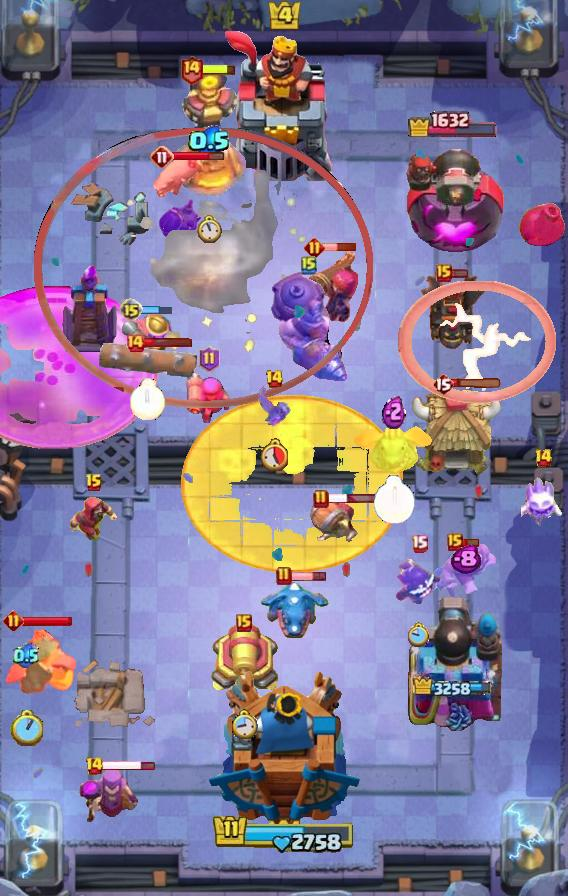archer-evolution: (420, 269, 486, 353)
baby-dragon: (516, 198, 568, 252)
barbarian: (256, 383, 292, 429)
barbarian-evolution: (398, 281, 556, 403)
bomb-tower: (120, 310, 176, 372)
bowler: (68, 494, 120, 544)
clock: (212, 813, 356, 855)
electro-dragon: (170, 71, 248, 199)
electro-spirit: (188, 126, 231, 158), (451, 545, 482, 575), (382, 393, 406, 429), (13, 643, 39, 669)
electro-wizard: (0, 625, 76, 699), (353, 422, 435, 476)
elixir: (373, 475, 415, 525), (130, 378, 166, 420), (10, 710, 43, 746), (260, 437, 288, 470), (230, 709, 257, 739), (197, 215, 222, 244), (408, 621, 430, 646)
emote: (100, 760, 155, 773), (21, 615, 73, 627), (172, 150, 225, 161), (451, 378, 503, 389), (326, 493, 378, 504), (143, 336, 193, 347), (201, 63, 237, 77), (289, 570, 326, 581), (141, 304, 173, 315), (323, 242, 358, 252), (460, 537, 480, 548), (450, 269, 469, 280)
fireball: (428, 539, 502, 601)
giant: (149, 153, 205, 203)
goblin-ball: (159, 191, 203, 257)
graveyard: (260, 580, 330, 642)
ice-spirit-evolution-symbol: (60, 262, 120, 354)
king-tower: (207, 669, 361, 826), (223, 31, 345, 181)
knight: (308, 496, 362, 548)
knight-evolution: (0, 286, 158, 449)
mega-minion: (301, 250, 359, 324)
minion: (99, 343, 197, 379)
mirror: (521, 473, 565, 527)
phoenix-egg: (181, 395, 404, 574)
prince: (408, 388, 502, 478)
rascal-girl: (76, 768, 140, 826)
royal-ghost: (35, 128, 374, 408)
royal-recruit: (208, 622, 280, 696)
selected: (407, 108, 499, 137), (413, 676, 493, 700)
spear-goblin: (395, 557, 443, 605)
text: (179, 55, 204, 85), (150, 145, 174, 169), (119, 298, 143, 322), (199, 346, 220, 372), (432, 372, 454, 396), (304, 238, 325, 259), (4, 609, 25, 630), (125, 333, 145, 353), (84, 756, 104, 776), (264, 369, 283, 389), (535, 448, 554, 468), (85, 473, 103, 493), (301, 255, 317, 275), (313, 489, 329, 509), (276, 566, 292, 586), (412, 535, 429, 553), (436, 264, 452, 282), (447, 533, 463, 551), (236, 614, 252, 632)
tombstone: (185, 373, 233, 423)
tower-bar: (404, 593, 502, 731), (401, 138, 505, 256)
wizard: (268, 270, 350, 384)
